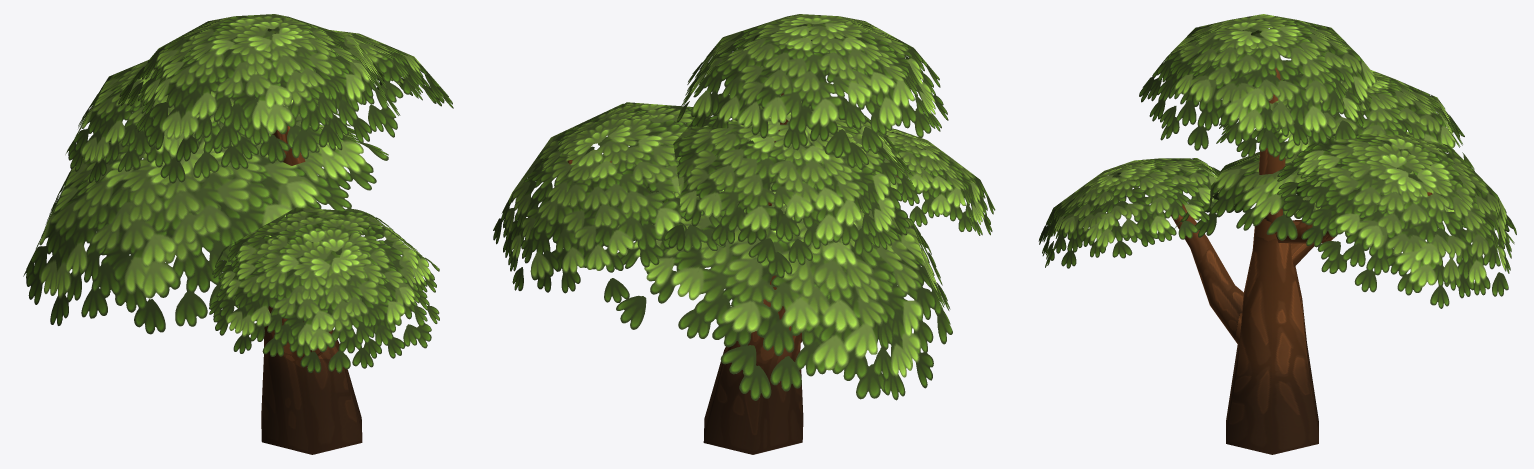
The model's file is LakeTree_03.FBX.
3 renders of one model, left to right at view 1: azimuth 30°, elevation 25°; view 2: azimuth 150°, elevation 25°; view 3: azimuth 270°, elevation 25°, orthographic. The views are drawn at different scales.
Visible parts, largest first — view 1: LakeTree_03; view 2: LakeTree_03; view 3: LakeTree_03.
Part boxes in pixels (x1,y1,x2,y2): LakeTree_03: (23,14,453,454); LakeTree_03: (493,14,995,454); LakeTree_03: (1038,14,1516,454).
Bounding box in the file's own units: 232 × 232 × 269.
